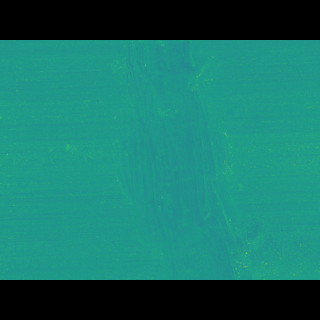Loch: (109, 69, 262, 249)
